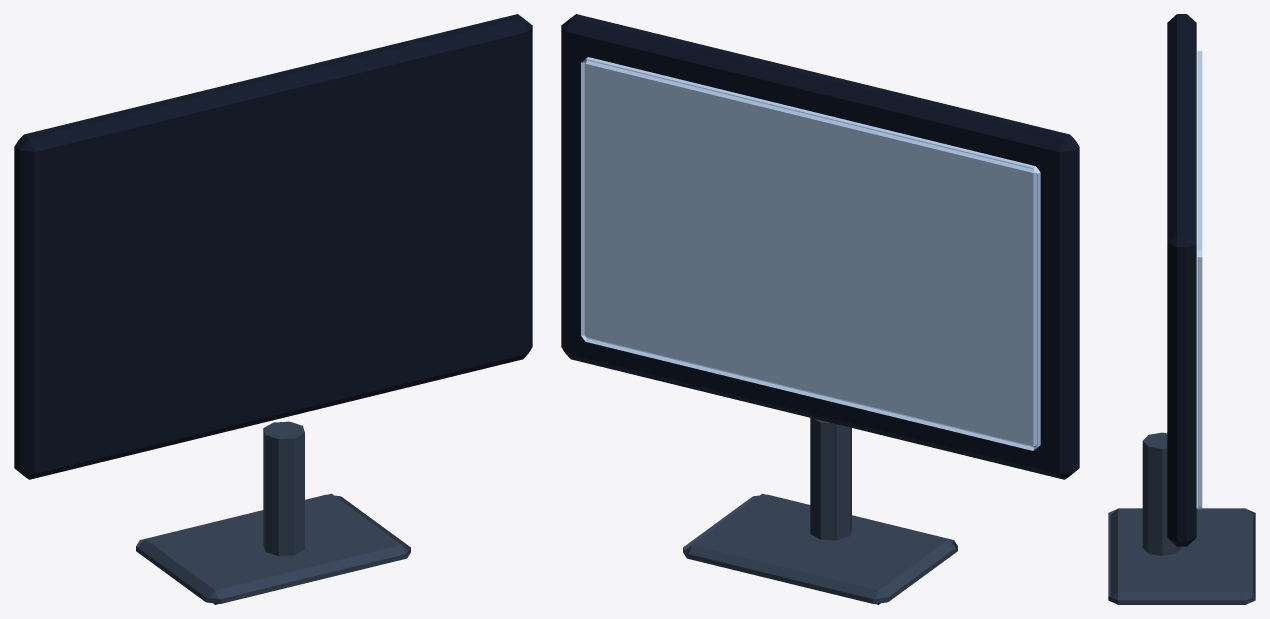
The model's file is monitor.glb.
The picture shows the model from 3 angles, left to right: view 1: azimuth 30°, elevation 25°; view 2: azimuth 150°, elevation 25°; view 3: azimuth 270°, elevation 25°; orthographic projection. The views are drawn at different scales.
Parts seen in each view (by area): view 1: Monitor; view 2: Monitor; view 3: Monitor.
Part boxes in pixels (left/top/right/bottom): Monitor: left=14, top=14, right=532, bottom=604; Monitor: left=561, top=14, right=1079, bottom=604; Monitor: left=1108, top=14, right=1255, bottom=604.
Bounding box in the file's own units: 0.55 × 0.4925 × 0.15.
